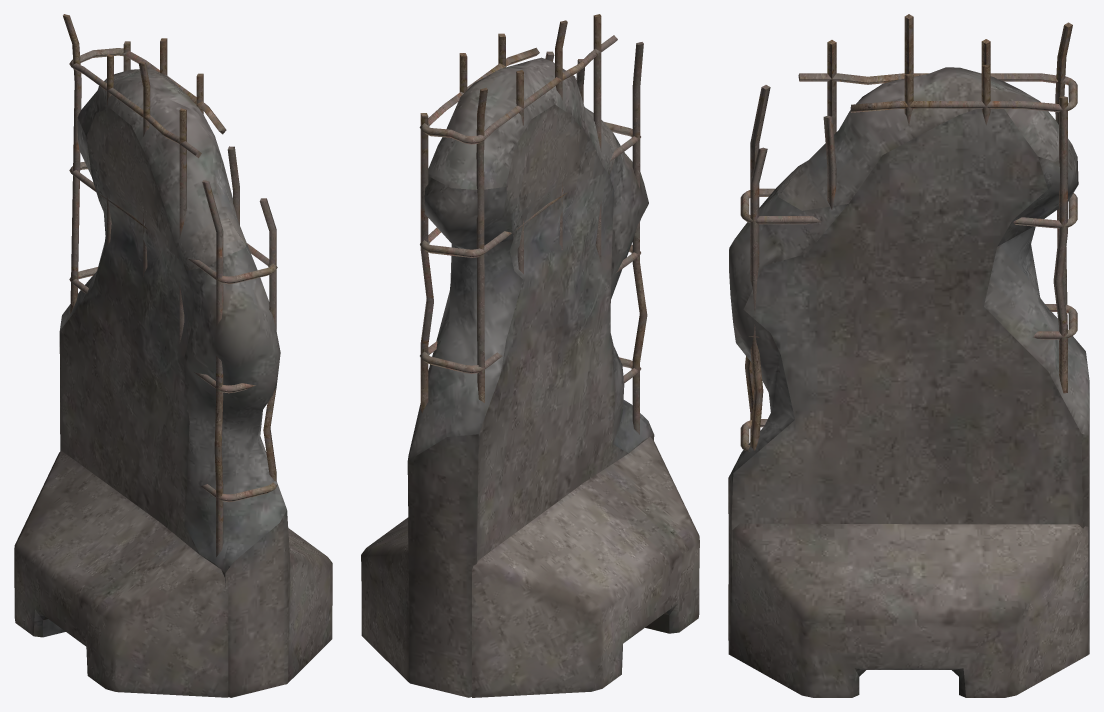
File: Wall_03.glb
3 views of the same model, side by side, from view 1: azimuth 30°, elevation 25°; view 2: azimuth 150°, elevation 25°; view 3: azimuth 270°, elevation 25° (orthographic). The views are drawn at different scales.
Parts seen in each view (by area): view 1: Wall_03; view 2: Wall_03; view 3: Wall_03.
Boxes of the visible parts, <box> form: Wall_03: <box>14,14,332,697</box>; Wall_03: <box>361,14,699,697</box>; Wall_03: <box>728,14,1089,697</box>.
Size of the model in its own units: 0.5788 by 1.41 by 0.7589.
Materials: 1 (1 with a texture image).
